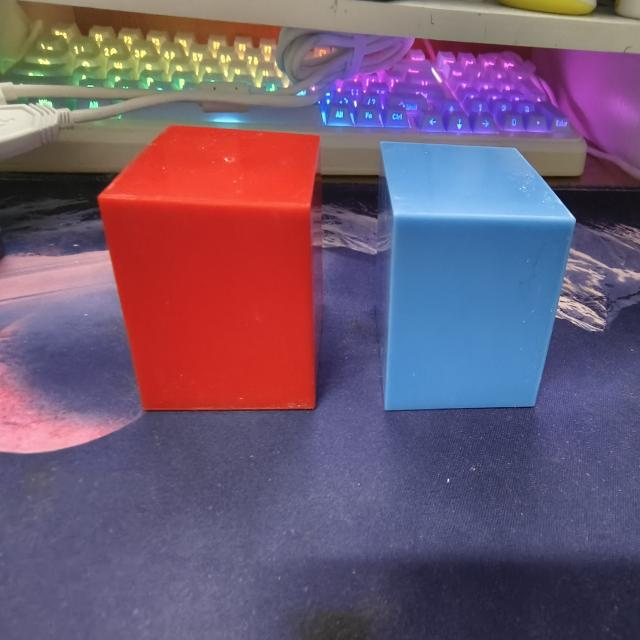blue: (379, 141, 576, 415)
red: (96, 125, 321, 415)
